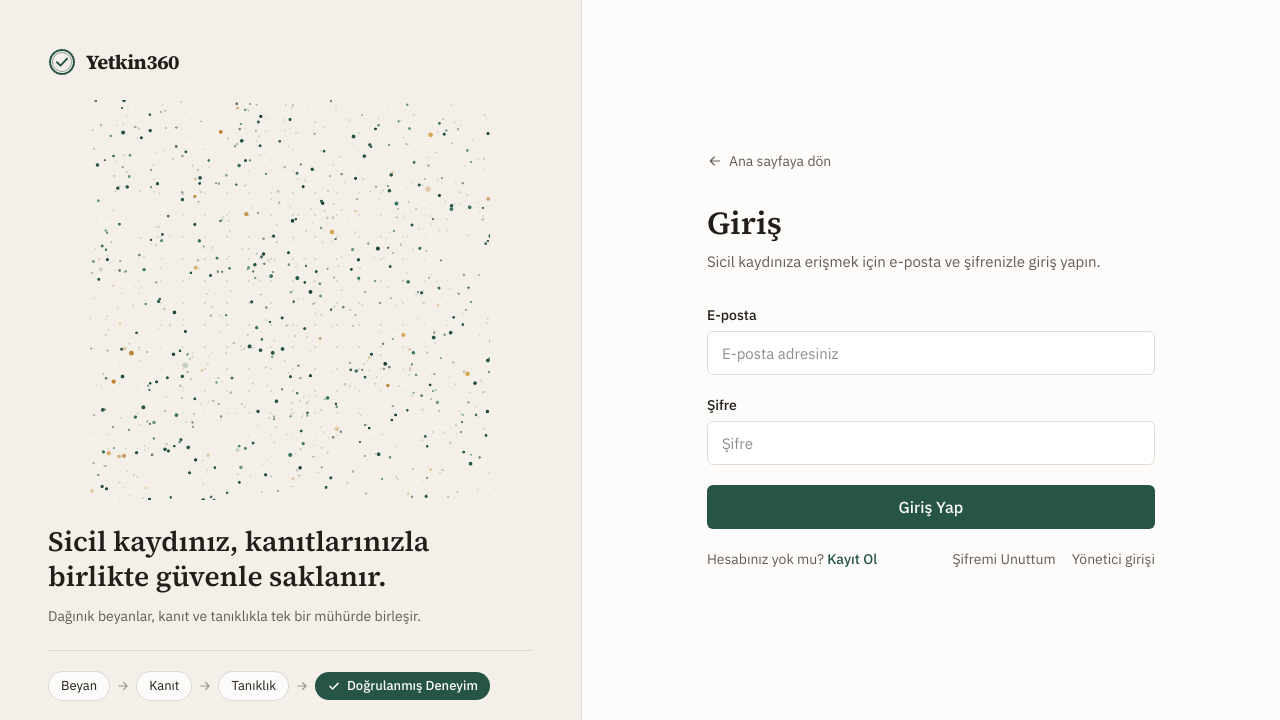
Scenario: LoginPage (giris/page.tsx) — Form Gerçek İmplementasyon › AC-10: 429 Rate Limit (form OTOMATİK retry YAPMAZ) › AC-10: 429 → 'Çok fazla deneme' mesajı + form kullanıcı eylemi bekler
In the field with placeholder "E-posta adresiniz": point(931, 353) [707,331,1155,375], type "test@example.com"
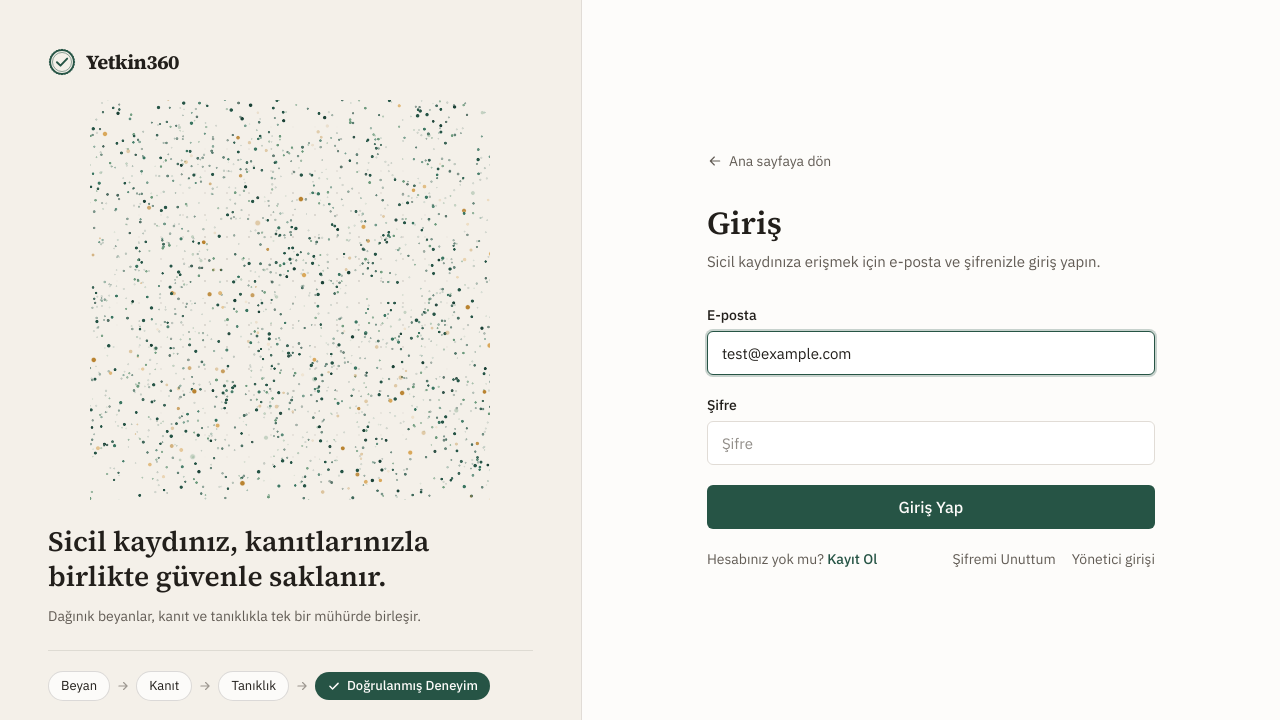
In the password field with placeholder "Şifre": point(931, 443) [707,421,1155,465], type "password123"
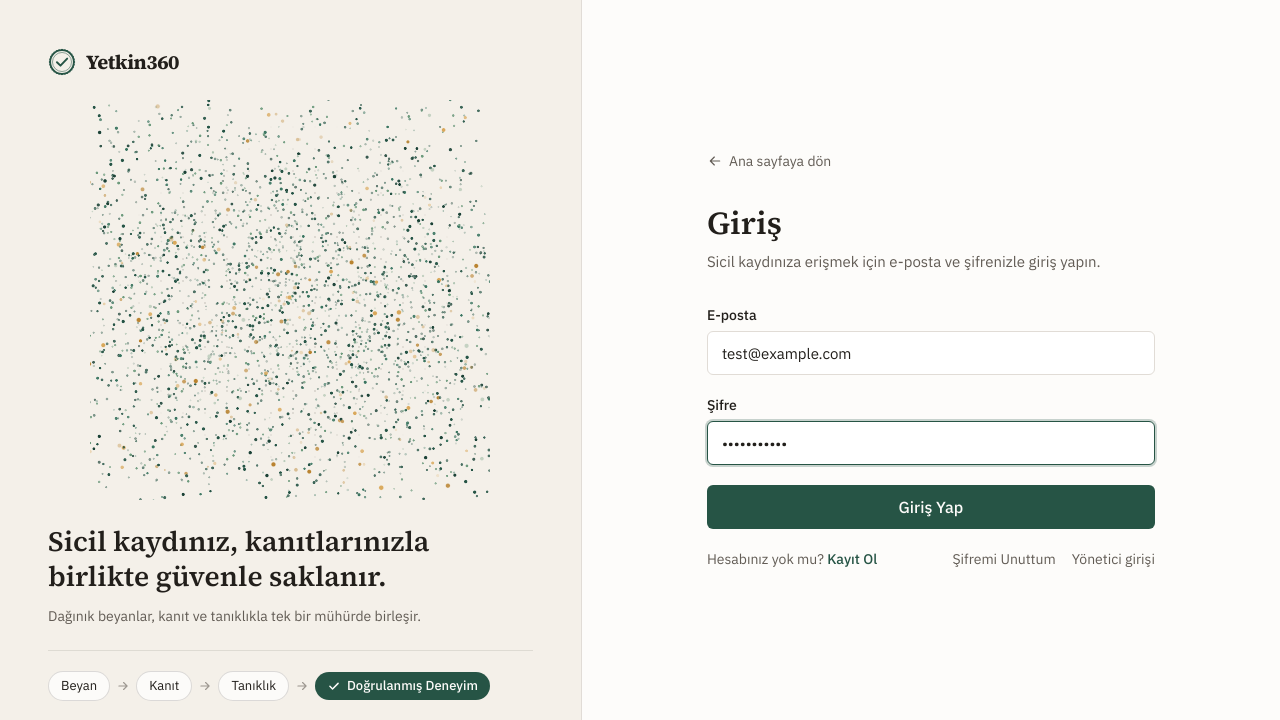
Click the button "Giriş Yap": point(931, 507) [707,485,1155,529]
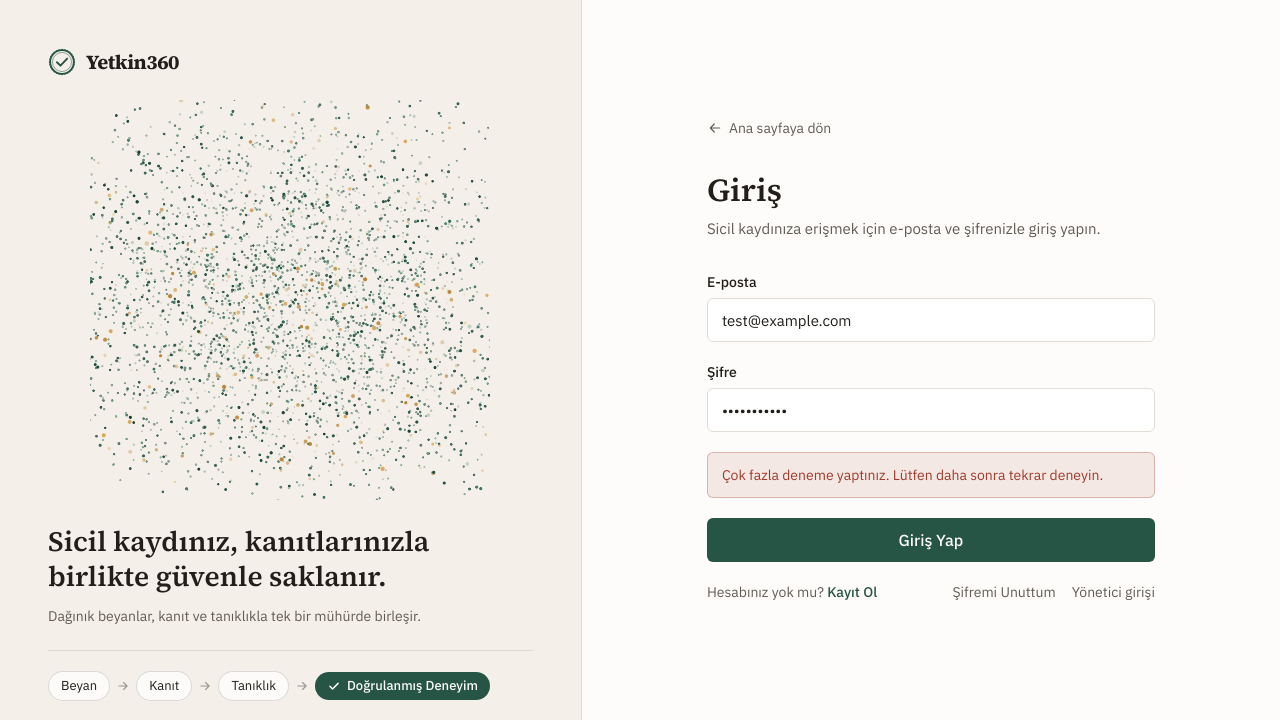
Now the text "Çok fazla deneme yaptınız. Lütfen daha sonra tekrar deneyin." is shown, box [707,452,1155,498]
